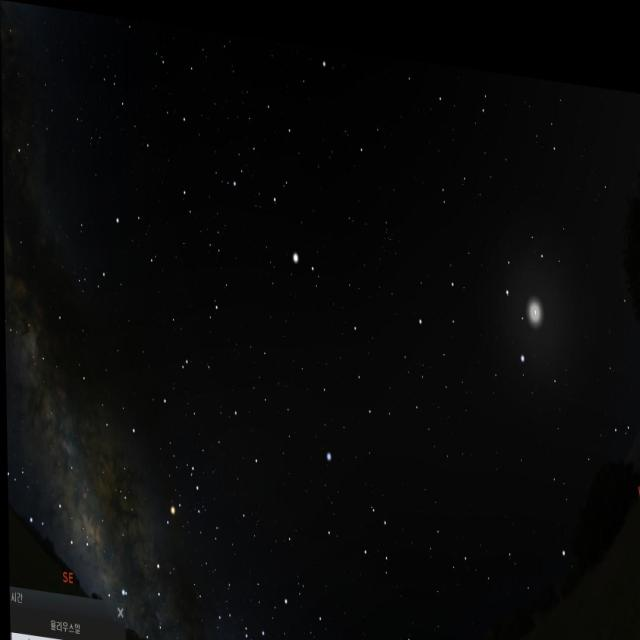bootes: (239, 74, 313, 265)
leo: (412, 182, 553, 380)
moon: (505, 240, 561, 334)
scorpius: (118, 445, 208, 640)
